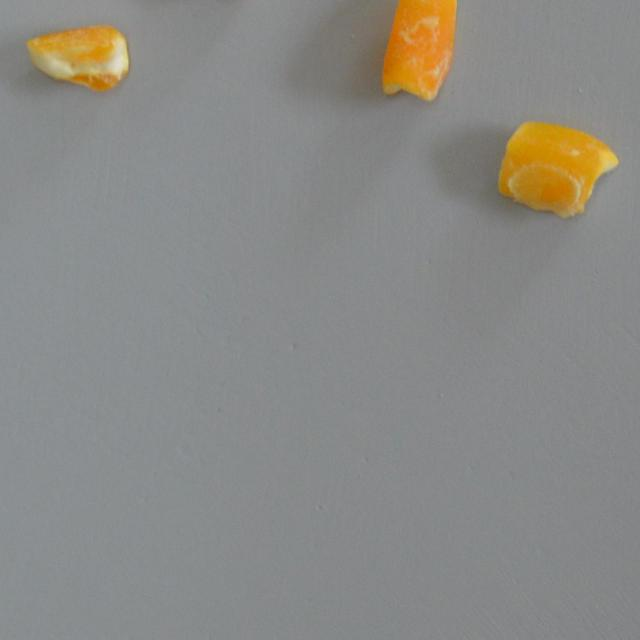pelicula: (492, 117, 626, 222), (376, 0, 461, 106), (20, 22, 132, 96)
